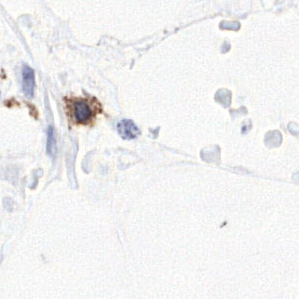Lymphocyte: (62, 92, 99, 127)
